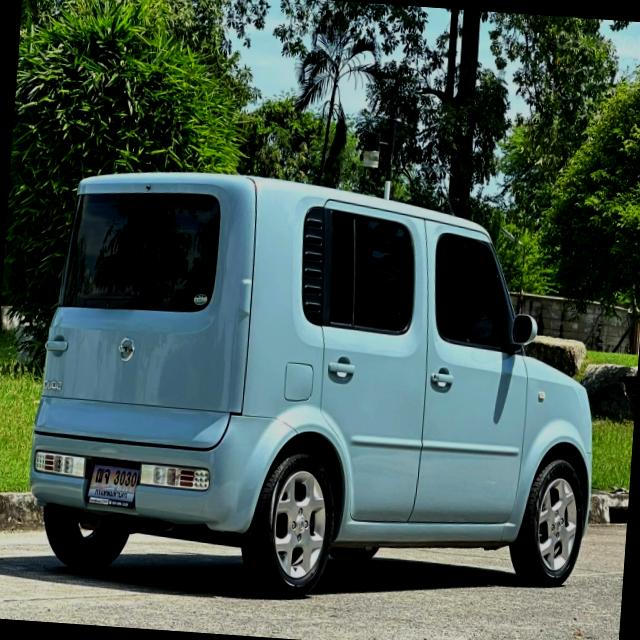license_plate: (77, 441, 142, 523)
